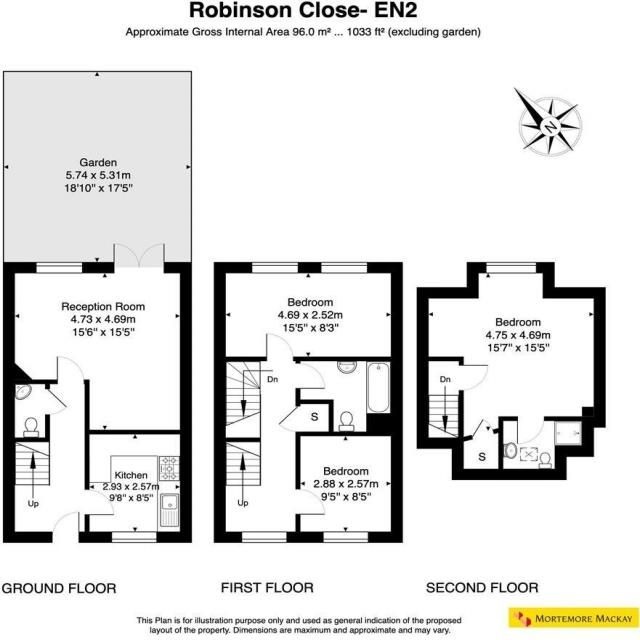DOOR: (515, 414, 548, 447), (457, 363, 491, 394), (51, 510, 81, 544), (83, 488, 116, 517), (294, 488, 326, 516), (294, 363, 327, 390), (56, 355, 85, 385), (265, 333, 295, 362), (277, 405, 302, 433), (44, 388, 68, 417)
DOUBLE DOOR: (111, 240, 166, 273)
ROOM: (1, 241, 193, 435), (415, 260, 607, 445), (212, 261, 403, 362), (294, 429, 403, 544), (84, 429, 192, 544)
WINDOW: (485, 261, 539, 275), (320, 261, 369, 275), (241, 530, 288, 544), (323, 530, 370, 544), (35, 261, 83, 274), (251, 261, 299, 274), (111, 531, 158, 544)
